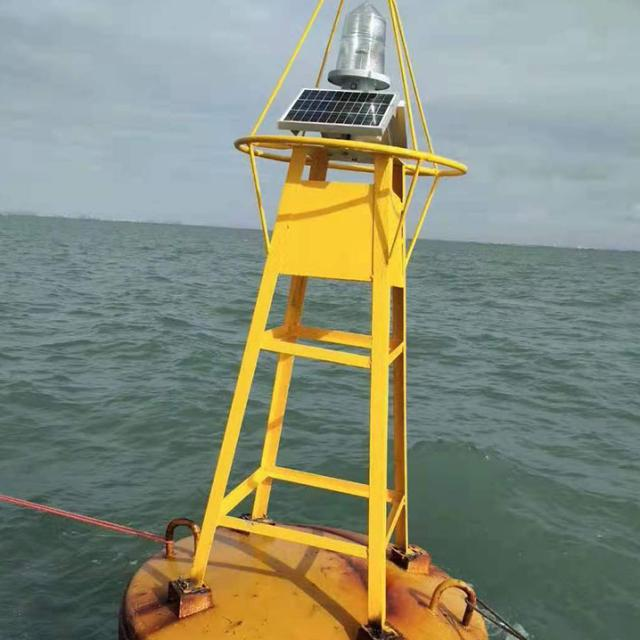buoy: (118, 0, 524, 640)
